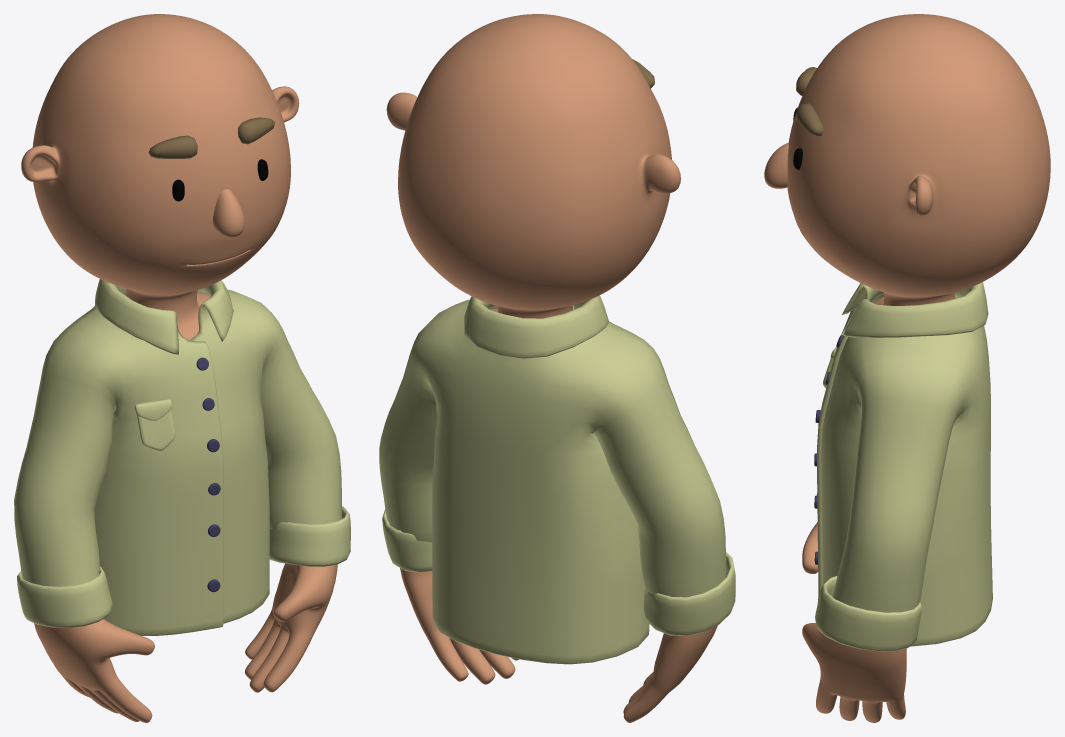
The picture shows the model from 3 angles, left to right: view 1: azimuth 30°, elevation 25°; view 2: azimuth 150°, elevation 25°; view 3: azimuth 270°, elevation 25°; orthographic projection. The views are drawn at different scales.
Visible parts, largest first — view 1: Shirt, body, Eyebrow.007, nose; view 2: Shirt, body; view 3: body, Shirt, Eyebrow.007, nose.
Part boxes in pixels (x1=…): Shirt: x1=14, y1=279, x2=350, y2=635; body: x1=21, y1=14, x2=337, y2=722; Eyebrow.007: x1=148, y1=117, x2=274, y2=158; nose: x1=213, y1=189, x2=245, y2=237; Shirt: x1=379, y1=295, x2=735, y2=664; body: x1=386, y1=14, x2=717, y2=722; body: x1=787, y1=14, x2=1050, y2=722; Shirt: x1=814, y1=282, x2=992, y2=651; Eyebrow.007: x1=796, y1=67, x2=823, y2=136; nose: x1=764, y1=143, x2=788, y2=188.
Bounding box in the file's own units: 6.4 × 12.67 × 4.93.
